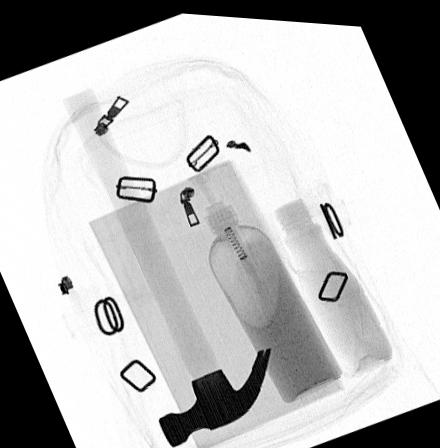Hammer: (61, 87, 272, 446)
